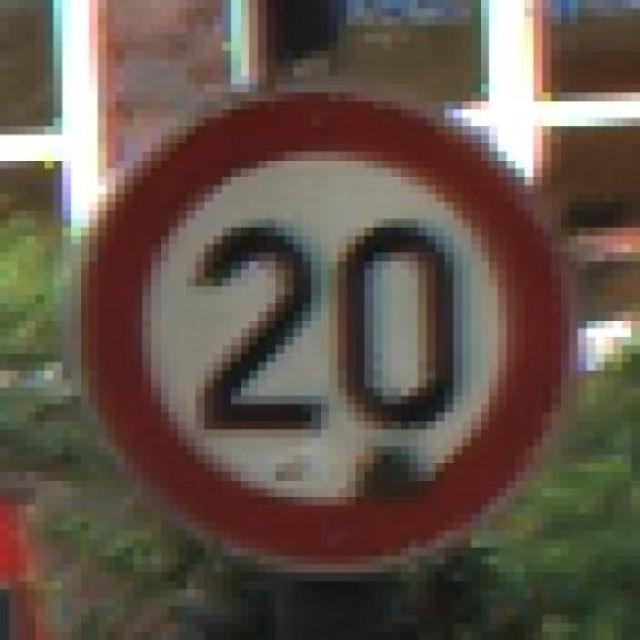Speed Limit 20 KMPh: (36, 76, 604, 590)
